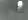person: (18, 3, 25, 17)
